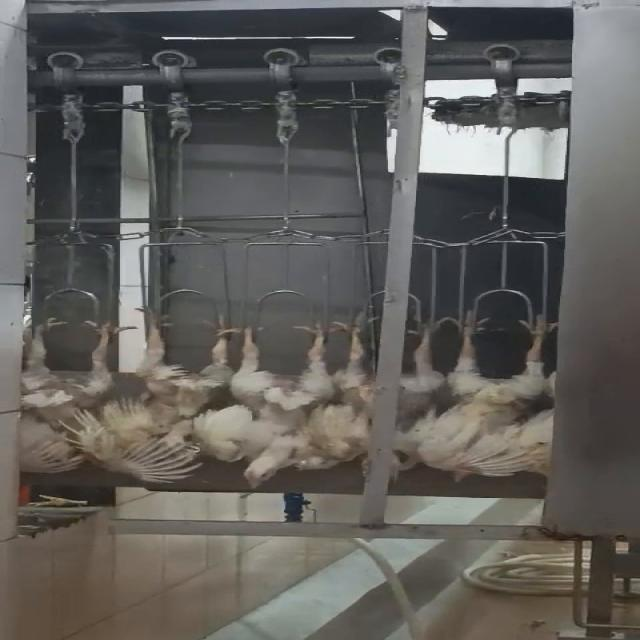chicken: (405, 307, 560, 484), (133, 309, 267, 486), (231, 326, 363, 493), (0, 310, 133, 474), (320, 318, 389, 470)
